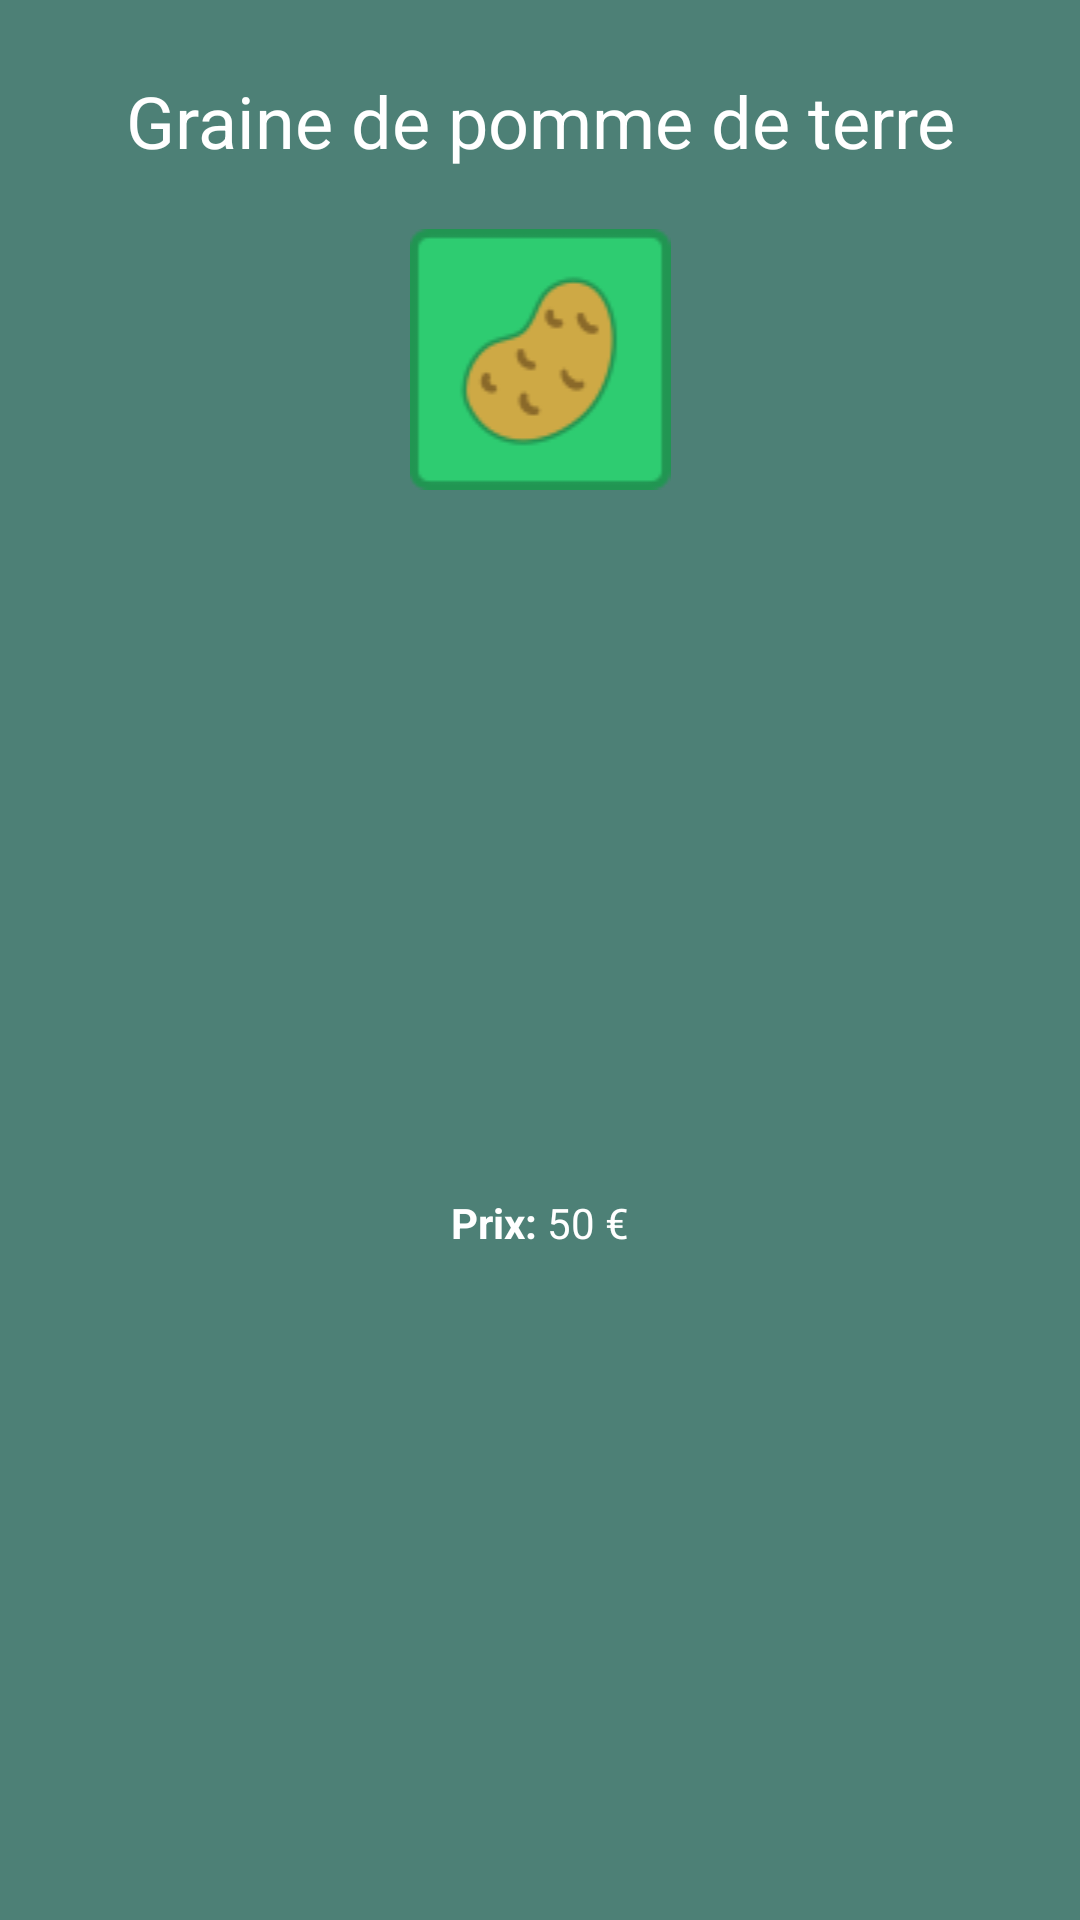

Named icons in this screenshot (1080px x 1920px) and their centers, (x,y):
plot potato ripe: (540,359)
